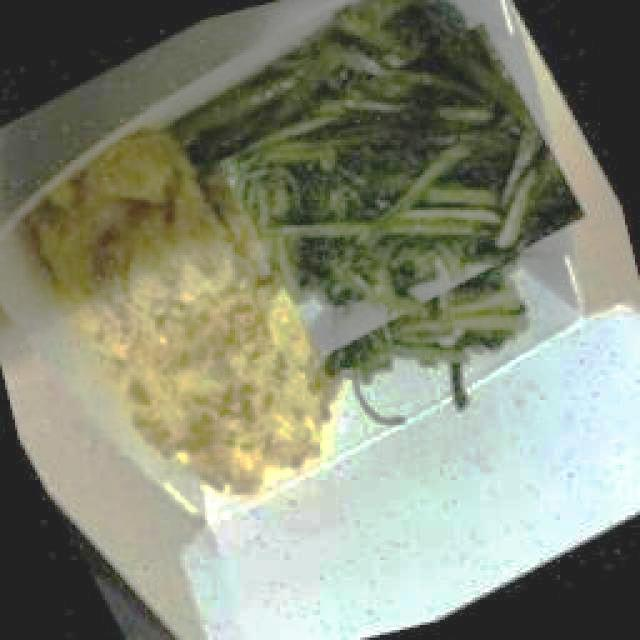curry: (36, 128, 337, 498)
water_spinach: (196, 4, 560, 318), (315, 163, 570, 405), (256, 136, 500, 285), (354, 106, 562, 279), (178, 5, 402, 156), (218, 84, 401, 268), (431, 22, 570, 246), (262, 102, 468, 226), (334, 271, 531, 370), (178, 51, 338, 157), (390, 6, 532, 114), (334, 159, 472, 270), (436, 22, 546, 160), (309, 52, 466, 138), (429, 203, 567, 299), (234, 114, 382, 188), (343, 2, 481, 77), (495, 150, 580, 256), (418, 274, 528, 350), (320, 316, 419, 382), (289, 232, 375, 298)
